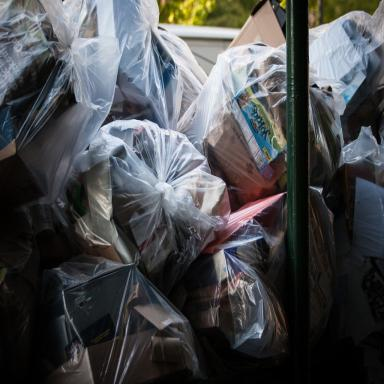plasticbag: (183, 36, 343, 195), (195, 193, 339, 353), (41, 245, 198, 384), (0, 0, 110, 184), (105, 131, 227, 295), (106, 0, 218, 130), (307, 4, 384, 100)
